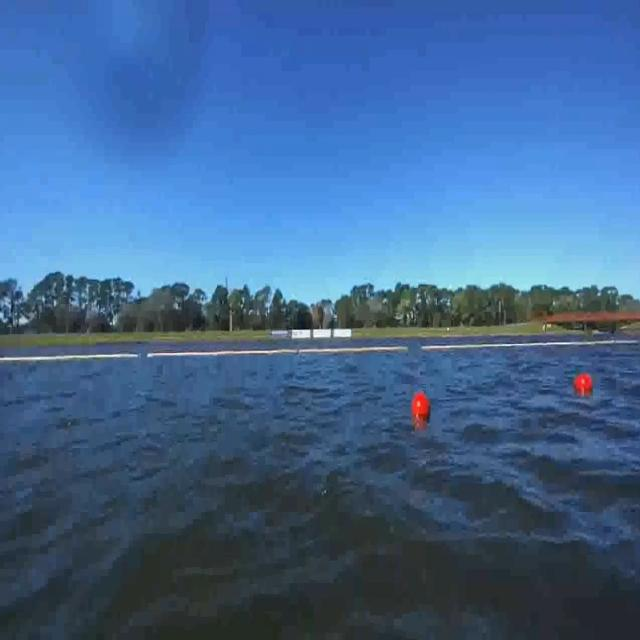red-buoy: (413, 394, 430, 420), (573, 372, 592, 393)
